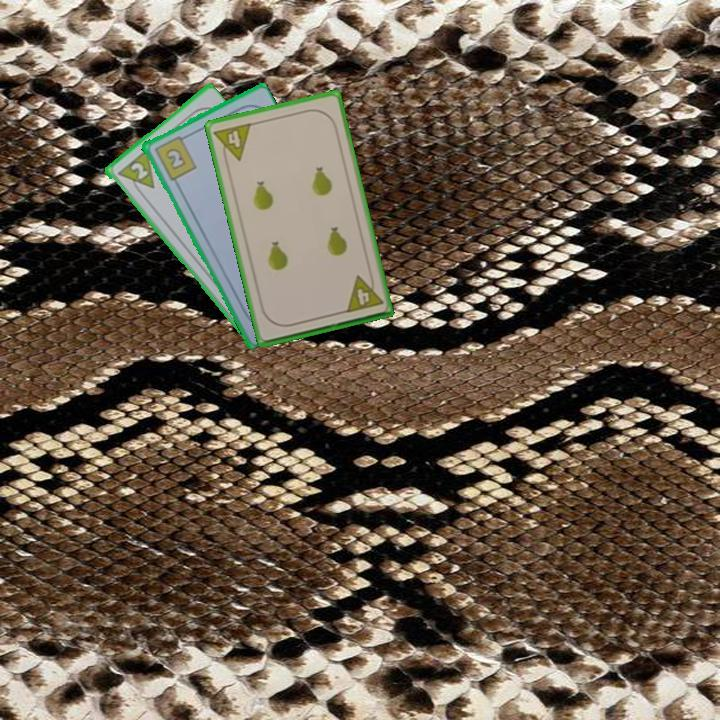2b: (150, 132, 199, 183)
2p: (112, 146, 157, 200)
4p: (210, 119, 254, 166), (342, 270, 386, 316)
